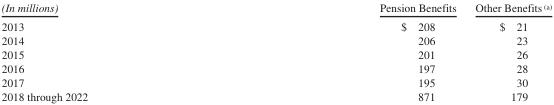table: (0, 0, 551, 102)
table column: (0, 0, 233, 102), (233, 0, 465, 102), (465, 0, 551, 102)
table column header: (0, 0, 551, 16)
table row: (0, 16, 551, 33), (0, 0, 551, 16), (0, 33, 551, 47), (0, 60, 551, 74), (0, 74, 551, 88), (0, 88, 551, 102), (0, 47, 551, 60)
